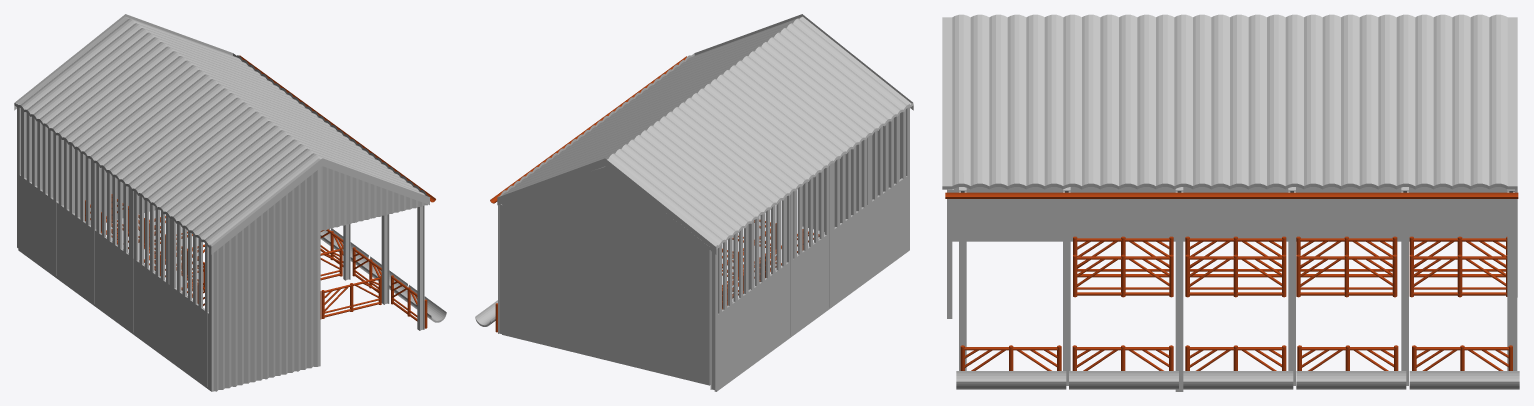
File: SheepDen.fbx
The picture shows the model from 3 angles, left to right: view 1: azimuth 30°, elevation 25°; view 2: azimuth 150°, elevation 25°; view 3: azimuth 270°, elevation 25°; orthographic projection. The views are drawn at different scales.
Visible parts, largest first — view 1: Plane.012, Cylinder.007, Cylinder; view 2: Plane.012, Cylinder.007, Cylinder; view 3: Plane.012, Cylinder.007, Cylinder.
Part boxes in pixels (x1,y1,x2,y2): Plane.012: (14, 14, 446, 391); Cylinder.007: (85, 194, 427, 328); Cylinder: (239, 55, 435, 202); Plane.012: (475, 14, 913, 391); Cylinder.007: (495, 220, 819, 332); Cylinder: (490, 56, 686, 203); Plane.012: (942, 14, 1519, 391); Cylinder.007: (960, 236, 1512, 370); Cylinder: (945, 192, 1518, 198).
Bounding box in the file's own units: 3378 × 2808 × 4814.
